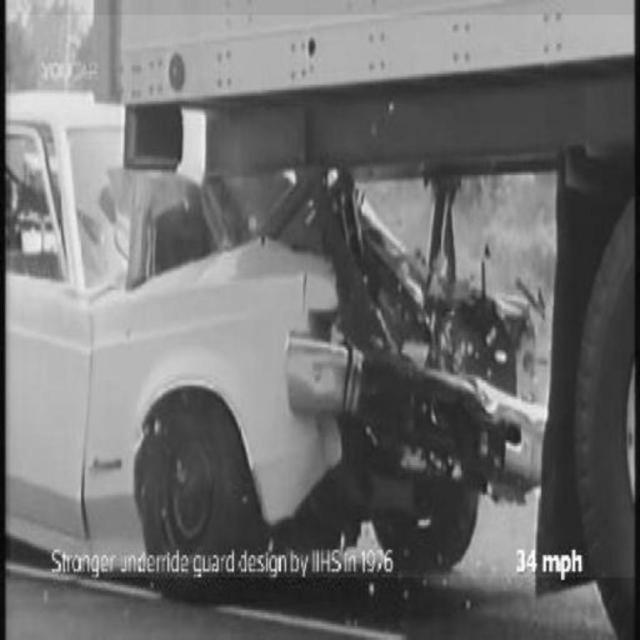accident: (11, 15, 635, 578)
